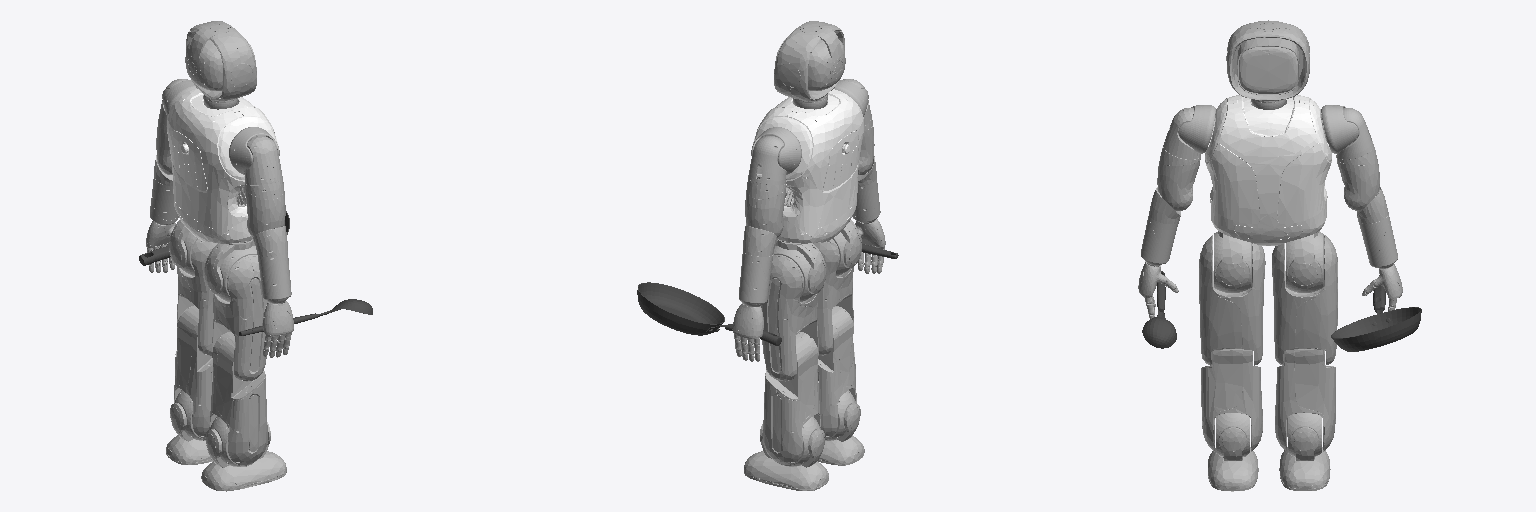
--- Facts derived from the render (not from the file) ---
Views: 3 orthographic renders of the robot side by side, from view 1: azimuth 30°, elevation 25°; view 2: azimuth 150°, elevation 25°; view 3: azimuth 270°, elevation 25°.
Robot: walker — 48 links, 47 joints (28 revolute, 18 fixed, 1 floating); root link world; default pose: all joints at 0.
Links seen in each view (by area): view 1: torso, right_leg_l4, head_l3, right_leg_link1, left_leg_l4, right_leg_link2, left_leg_link1, right_limb_l3, left_leg_link2, right_palm_link, right_limb_l2, right_limb_l5 (+8 smaller); view 2: torso, left_leg_l4, head_l3, left_leg_link1, pan_link, right_leg_l4, left_leg_link2, right_leg_link1, left_limb_l3, right_leg_link2, left_limb_l5, left_palm_link (+8 smaller); view 3: torso, head_l3, right_leg_link1, left_leg_link1, right_leg_l4, left_leg_l4, pan_link, left_leg_link2, right_leg_link2, right_limb_l3, left_limb_l3, left_limb_l5 (+14 smaller).
Boxes of the visible links, x1,y1,x2,y2 form: torso: (167, 89, 277, 243); right_leg_l4: (209, 332, 267, 464); head_l3: (185, 21, 256, 102); right_leg_link1: (212, 255, 267, 381); left_leg_l4: (174, 305, 212, 438); right_leg_link2: (201, 422, 286, 491); left_leg_link1: (177, 239, 217, 355); right_limb_l3: (245, 179, 285, 237); left_leg_link2: (166, 403, 212, 464); right_palm_link: (263, 301, 293, 357); right_limb_l2: (245, 136, 282, 184); right_limb_l5: (258, 252, 291, 300); torso: (753, 89, 863, 243); left_leg_l4: (762, 332, 820, 464); head_l3: (774, 21, 845, 102); left_leg_link1: (761, 255, 818, 381); pan_link: (637, 282, 781, 345); right_leg_l4: (818, 306, 856, 438); left_leg_link2: (744, 424, 828, 490); right_leg_link1: (813, 239, 853, 355); left_limb_l3: (745, 178, 785, 236); right_leg_link2: (818, 403, 864, 465); left_limb_l5: (739, 252, 773, 304); left_palm_link: (732, 303, 763, 361); torso: (1205, 95, 1331, 245); head_l3: (1226, 20, 1309, 102); right_leg_link1: (1199, 235, 1265, 365); left_leg_link1: (1272, 235, 1337, 365); right_leg_l4: (1201, 349, 1262, 451); left_leg_l4: (1275, 349, 1335, 451); pan_link: (1331, 286, 1421, 351); left_leg_link2: (1279, 427, 1330, 490); right_leg_link2: (1208, 427, 1258, 491); right_limb_l3: (1157, 147, 1200, 210); left_limb_l3: (1336, 147, 1379, 210); left_limb_l5: (1358, 215, 1397, 267).
Bounding box of the posed robot: 0.546 × 0.8655 × 1.49 m (x, y, z).
Meshes: 38 distinct files referenced, 38 mesh visuals loaded (36 binary STL, 2 OBJ).

robot.urdf — walker:
<robot name="walker">
  <link name="world"/>
  <joint name="reference" type="floating">
    <parent link="world"/>
    <child link="base_link"/>
  </joint>
  <link name="base_link"/>
  <link name="torso">
    <inertial>
      <origin
          xyz="-0.00124874653232382 0.000246598785695634 -0.111598785207968"
          rpy="0 0 0"/>
      <mass
          value="20.773"/>
      <inertia
          ixx="0.0504230367553516"
          ixy="9.48207899309819E-06"
          ixz="0.000402652939677054"
          iyy="0.0425230890142075"
          iyz="3.19033530756639E-05"
          izz="0.0360972564220647"/>
    </inertial>
    <visual>
      <origin
          xyz="0 0 0"
          rpy="0 0 0"/>
      <geometry>
        <mesh
            filename="../meshes/base_link.STL"/>
      </geometry>
      <material
          name="">
        <color
            rgba="1 1 1 1"/>
      </material>
    </visual>
    <collision>
      <origin
          xyz="0 0 0"
          rpy="0 0 0"/>
      <geometry>
        <mesh
            filename="../meshes/base_link.STL"/>
      </geometry>
    </collision>
  </link>
  <joint
      name="torso_joint"
      type="fixed">
    <origin xyz="0 0 0" rpy="0 0 0"/>
    <parent link="base_link"/>
    <child link="torso"/>
  </joint>
  <link
      name="right_limb_l1">
    <inertial>
      <origin
          xyz="-0.00722075380474052 0.000182063550966449 -0.0361420965458128"
          rpy="0 0 0"/>
      <mass
          value="0.373"/>
      <inertia
          ixx="0.000311522358740572"
          ixy="9.35574756778796E-08"
          ixz="9.36994646655716E-06"
          iyy="0.000215286397239846"
          iyz="1.95199653306617E-07"
          izz="0.000396295467948814"/>
    </inertial>
    <visual>
      <origin
          xyz="0 0 0"
          rpy="0 0 0"/>
      <geometry>
        <mesh
            filename="../meshes/right_limb_l1.STL"/>
      </geometry>
      <material
          name="">
        <color
            rgba="0.752941176470588 0.752941176470588 0.752941176470588 1"/>
      </material>
    </visual>
    <collision>
      <origin
          xyz="0 0 0"
          rpy="0 0 0"/>
      <geometry>
        <mesh
            filename="../meshes/right_limb_l1.STL"/>
      </geometry>
    </collision>
  </link>
  <joint
      name="right_limb_j1"
      type="revolute">
    <origin
        xyz="0 -0.24142 0.018386"
        rpy="-1.9576E-06 1.3107 -1.5708"/>
    <parent
        link="torso"/>
    <child
        link="right_limb_l1"/>
    <axis
        xyz="0 0 -1"/>
    <limit
        lower="-3.1416"
        upper="0.7854"
        effort="30"
        velocity="2.0944"/>
  </joint>
  <link
      name="right_limb_l2">
    <inertial>
      <origin
          xyz="-0.00196280070849963 0.0273168501674689 -0.000134287637530872"
          rpy="0 0 0"/>
      <mass
          value="1.059"/>
      <inertia
          ixx="0.000358148474769472"
          ixy="4.04459296835339E-06"
          ixz="-1.32587419890355E-07"
          iyy="0.000288726351260568"
          iyz="-2.60810750383314E-07"
          izz="0.000390106430816898"/>
    </inertial>
    <visual>
      <origin
          xyz="0 0 0"
          rpy="0 0 0"/>
      <geometry>
        <mesh
            filename="../meshes/right_limb_l2.STL"/>
      </geometry>
      <material
          name="">
        <color
            rgba="0.752941176470588 0.752941176470588 0.752941176470588 1"/>
      </material>
    </visual>
    <collision>
      <origin
          xyz="0 0 0"
          rpy="0 0 0"/>
      <geometry>
        <mesh
            filename="../meshes/right_limb_l2.STL"/>
      </geometry>
    </collision>
  </link>
  <joint
      name="right_limb_j2"
      type="revolute">
    <origin
        xyz="0 0 0"
        rpy="2.5133 1.5708 0.94251"/>
    <parent
        link="right_limb_l1"/>
    <child
        link="right_limb_l2"/>
    <axis
        xyz="0 0 -1"/>
    <limit
        lower="-1.5708"
        upper="0.0175"
        effort="25"
        velocity="3.1416"/>
  </joint>
  <link
      name="right_limb_l3">
    <inertial>
      <origin
          xyz="0.00629656239509119 -0.000210202146791738 -0.0621806056819393"
          rpy="0 0 0"/>
      <mass
          value="1.311"/>
      <inertia
          ixx="0.000578598259089344"
          ixy="1.06936365158182E-06"
          ixz="-2.64856345206635E-05"
          iyy="0.00055597686018737"
          iyz="-3.95057844818449E-07"
          izz="0.000447021332772511"/>
    </inertial>
    <visual>
      <origin
          xyz="0 0 0"
          rpy="0 0 0"/>
      <geometry>
        <mesh
            filename="../meshes/right_limb_l3.STL"/>
      </geometry>
      <material
          name="">
        <color
            rgba="0.752941176470588 0.752941176470588 0.752941176470588 1"/>
      </material>
    </visual>
    <collision>
      <origin
          xyz="0 0 0"
          rpy="0 0 0"/>
      <geometry>
        <mesh
            filename="../meshes/right_limb_l3.STL"/>
      </geometry>
    </collision>
  </link>
  <joint
      name="right_limb_j3"
      type="revolute">
    <origin
        xyz="-0.00064368 0.22946 0"
        rpy="-1.5708 -5.382E-07 1.8518E-13"/>
    <parent
        link="right_limb_l2"/>
    <child
        link="right_limb_l3"/>
    <axis
        xyz="0 0 1"/>
    <limit
        lower="-1.9199"
        upper="1.9199"
        effort="15"
        velocity="3.1416"/>
  </joint>
  <link
      name="right_limb_l4">
    <inertial>
      <origin
          xyz="0.0187332468499471 0.0270289413426349 -0.000700111734367959"
          rpy="0 0 0"/>
      <mass
          value="1.025"/>
      <inertia
          ixx="0.000288414802228566"
          ixy="-3.8255971416539E-05"
          ixz="-1.37491897701913E-06"
          iyy="0.000238322279447384"
          iyz="-1.45890833294397E-06"
          izz="0.00032269764599304"/>
    </inertial>
    <visual>
      <origin
          xyz="0 0 0"
          rpy="0 0 0"/>
      <geometry>
        <mesh
            filename="../meshes/right_limb_l4.STL"/>
      </geometry>
      <material
          name="">
        <color
            rgba="0.752941176470588 0.752941176470588 0.752941176470588 1"/>
      </material>
    </visual>
    <collision>
      <origin
          xyz="0 0 0"
          rpy="0 0 0"/>
      <geometry>
        <mesh
            filename="../meshes/right_limb_l4.STL"/>
      </geometry>
    </collision>
  </link>
  <joint
      name="right_limb_j4"
      type="revolute">
    <origin
        xyz="0.02546 0 0"
        rpy="1.5708 -0.050009 -3.1416"/>
    <parent
        link="right_limb_l3"/>
    <child
        link="right_limb_l4"/>
    <axis
        xyz="0 0 -1"/>
    <limit
        lower="-2.234"
        upper="0"
        effort="15"
        velocity="3.1416"/>
  </joint>
  <link name="right_elbow"/>
  <joint name="right_elbow_joint" type="fixed">
    <origin
        xyz="0 0 0"
        rpy="0 -1.5708 -3.1416"/>
    <parent
        link="right_limb_l4"/>
    <child
        link="right_elbow"/>
    <axis
        xyz="0 0 1"/>
  </joint>
  <link
      name="right_limb_l5">
    <inertial>
      <origin
          xyz="-0.000596823513585643 0.000121710879949472 -0.0604708516266729"
          rpy="0 0 0"/>
      <mass
          value="0.523"/>
      <inertia
          ixx="0.000317212358011218"
          ixy="8.88268591235818E-08"
          ixz="-1.43322638083362E-06"
          iyy="0.000310459779022516"
          iyz="-1.31927102955734E-06"
          izz="0.00020181632910904"/>
    </inertial>
    <visual>
      <origin
          xyz="0 0 0"
          rpy="0 0 0"/>
      <geometry>
        <mesh
            filename="../meshes/right_limb_l5.STL"/>
      </geometry>
      <material
          name="">
        <color
            rgba="0.752941176470588 0.752941176470588 0.752941176470588 1"/>
      </material>
    </visual>
    <collision>
      <origin
          xyz="0 0 0"
          rpy="0 0 0"/>
      <geometry>
        <mesh
            filename="../meshes/right_limb_l5.STL"/>
      </geometry>
    </collision>
  </link>
  <joint
      name="right_limb_j5"
      type="revolute">
    <origin
        xyz="0.024799 0.20964 0"
        rpy="-0.26632 -1.5708 -1.3045"/>
    <parent
        link="right_limb_l4"/>
    <child
        link="right_limb_l5"/>
    <axis
        xyz="0 0 1"/>
    <limit
        lower="-2.3562"
        upper="2.3562"
        effort="2.5"
        velocity="4.8869"/>
  </joint>
  <link
      name="right_limb_l6">
    <inertial>
      <origin
          xyz="0.0128445139242113 0.000377301016695641 -0.000161615308550689"
          rpy="0 0 0"/>
      <mass
          value="0.167"/>
      <inertia
          ixx="2.98997054662723E-05"
          ixy="-1.80995710652571E-07"
          ixz="1.11151156519791E-08"
          iyy="1.83543369800577E-05"
          iyz="4.01989443243718E-09"
          izz="1.79177399902685E-05"/>
    </inertial>
    <visual>
      <origin
          xyz="0 0 0"
          rpy="0 0 0"/>
      <geometry>
        <mesh
            filename="../meshes/right_limb_l6.STL"/>
      </geometry>
      <material
          name="">
        <color
            rgba="0.752941176470588 0.752941176470588 0.752941176470588 1"/>
      </material>
    </visual>
    <collision>
      <origin
          xyz="0 0 0"
          rpy="0 0 0"/>
      <geometry>
        <mesh
            filename="../meshes/right_limb_l6.STL"/>
      </geometry>
    </collision>
  </link>
  <joint
      name="right_limb_j6"
      type="revolute">
    <origin
        xyz="0 0 0"
        rpy="-1.5708 -1.5708 3.1416"/>
    <parent
        link="right_limb_l5"/>
    <child
        link="right_limb_l6"/>
    <axis
        xyz="0 0 1"/>
    <limit
        lower="-0.3508"
        upper="0.3508"
        effort="2.5"
        velocity="3.1416"/>
  </joint>
  <link
      name="right_limb_l7">
    <inertial>
      <origin
          xyz="0.0128445139242113 -0.000161615367552381 -0.000377300991422524"
          rpy="0 0 0"/>
      <mass
          value="0.056"/>
      <inertia
          ixx="2.98997054662723E-05"
          ixy="1.11151439557976E-08"
          ixz="1.80995708914405E-07"
          iyy="1.79177399890113E-05"
          iyz="-4.01982615810442E-09"
          izz="1.83543369813149E-05"/>
    </inertial>
    <visual>
      <origin
          xyz="0 0 0"
          rpy="0 0 0"/>
      <geometry>
        <mesh
            filename="../meshes/right_limb_l7.STL"/>
      </geometry>
      <material
          name="">
        <color
            rgba="0.752941176470588 0.752941176470588 0.752941176470588 1"/>
      </material>
    </visual>
    <collision>
      <origin
          xyz="0 0 0"
          rpy="0 0 0"/>
      <geometry>
        <mesh
            filename="../meshes/right_limb_l7.STL"/>
      </geometry>
    </collision>
  </link>
  <joint
      name="right_limb_j7"
      type="revolute">
    <origin
        xyz="0 0 0"
        rpy="1.5708 -5.9686E-17 -1.3235E-23"/>
    <parent
        link="right_limb_l6"/>
    <child
        link="right_limb_l7"/>
    <axis
        xyz="0 0 1"/>
  </joint>
  <link
      name="right_palm_link">
    <inertial>
      <origin
          xyz="-0.0144809215118954 -0.0132347085538364 0.022306335464008"
          rpy="0 0 0"/>
      <mass
          value="0.0852752510078387"/>
      <inertia
          ixx="0.000154775131402232"
          ixy="1.85109602266807E-05"
          ixz="7.47252049170957E-06"
          iyy="0.000107981762301999"
          iyz="-1.08345230717271E-06"
          izz="0.000125562926987643"/>
    </inertial>
    <visual>
      <origin
          xyz="0 0 0"
          rpy="0 0 0"/>
      <geometry>
        <mesh
            filename="../meshes/right_hand.STL"/>
      </geometry>
      <material
          name="">
        <color
            rgba="0.752941176470588 0.752941176470588 0.752941176470588 1"/>
      </material>
    </visual>
    <collision>
      <origin
          xyz="0 0 0"
          rpy="0 0 0"/>
      <geometry>
        <mesh
            filename="../meshes/right_hand.STL"/>
      </geometry>
    </collision>
  </link>
  <joint
      name="right_palm_joint"
      type="fixed">
    <origin
        xyz="0.074796 0.011942 -0.02228"
        rpy="-1.0945E-07 -1.947E-07 1.7826"/>
    <parent
        link="right_limb_l7"/>
    <child
        link="right_palm_link"/>
    <axis
        xyz="0 0 0"/>
  </joint>

  <joint name="right_spoon_joint" type="fixed">
    <origin rpy="-1.57 -1.57 -1.87" xyz="0.02 -0.05 0.04"/>
    <parent link="right_palm_link"/>
    <child link="spoon_link"/>
    <axis xyz="0 0 1"/>
    <dynamics damping="0.0" friction="0.0"/>
    <limit effort="100" lower="0.0" upper="1.571" velocity="100"/>
  </joint>
  <link name="spoon_link">
    <inertial>
      <mass value="0.01"/>
      <origin rpy="0 0 0" xyz="1.3071561e-02 2.7346340e-03 6.4090487e-04"/>
      <inertia ixx="3.5827953e-07" ixy="-2.0934657e-07" ixz="-6.8435459e-08" iyy="1.3882698e-06" iyz="-3.2001578e-08" izz="1.3570267e-06"/>
    </inertial>
    <visual>
      <origin rpy="0 0 0" xyz="0 0 0"/>
      <geometry>
        <mesh filename="../../objects/pan_spoon/spoon.obj" scale="1 1 1"/>
      </geometry>
      <material name="qbhand/spoon">
        <color rgba="0.35 0.35 0.35 1.0"/>
      </material>
    </visual>
    <collision>
      <origin rpy="0 0 0" xyz="0 0 0"/>
      <geometry>
        <mesh filename="../../objects/pan_spoon/spoon.obj" scale="1 1 1"/>
      </geometry>
    </collision>
  </link>


  <link name="right_tcp">
  </link>
  <joint name="right_tcp_joint" type="fixed">
    <origin
        xyz="0.02 -0.05 0.015"
        rpy="0.12217304763960307 -1.5707963267948966 0.0"/>
    <parent link="right_palm_link"/>
    <child link="right_tcp"/>
    <axis xyz="0 0 0"/>
  </joint>
  <link name="right_palm_tcp"/>
  <joint name="right_palm_tcp_joint" type="fixed">
    <origin
        xyz="0.08 -0.03 0.015"
        rpy="0.12217304763960307 -1.5707963267948966 -0.8"/>
    <parent link="right_palm_link"/>
    <child link="right_palm_tcp"/>
    <axis xyz="0 0 0"/>
  </joint>
  <link
      name="left_limb_l1">
    <inertial>
      <origin
          xyz="-0.00723118478663559 -0.00017669295908318 -0.0361510146492087"
          rpy="0 0 0"/>
      <mass
          value="0.373"/>
      <inertia
          ixx="0.000311546571609671"
          ixy="1.46233470422137E-07"
          ixz="9.38915560600786E-06"
          iyy="0.000215270106429758"
          iyz="-1.74887531239602E-07"
          izz="0.000396323890766572"/>
    </inertial>
    <visual>
      <origin
          xyz="0 0 0"
          rpy="0 0 0"/>
      <geometry>
        <mesh
            filename="../meshes/left_limb_l1.STL"/>
      </geometry>
      <material
          name="">
        <color
            rgba="0.752941176470588 0.752941176470588 0.752941176470588 1"/>
      </material>
    </visual>
    <collision>
      <origin
          xyz="0 0 0"
          rpy="0 0 0"/>
      <geometry>
        <mesh
            filename="../meshes/left_limb_l1.STL"/>
      </geometry>
    </collision>
  </link>
  <joint
      name="left_limb_j1"
      type="revolute">
    <origin
        xyz="0 0.24142 0.018386"
        rpy="-1.931E-07 1.3073 1.5708"/>
    <parent
        link="torso"/>
    <child
        link="left_limb_l1"/>
    <axis
        xyz="0 0 -1"/>
    <limit
        lower="-0.7854"
        upper="3.1416"
        effort="30"
        velocity="2.0944"/>
  </joint>
  <link
      name="left_limb_l2">
    <inertial>
      <origin
          xyz="-0.000955809738594438 -0.0269333403261617 -0.000117719319276233"
          rpy="0 0 0"/>
      <mass
          value="1.059"/>
      <inertia
          ixx="0.000356827361185567"
          ixy="-1.12533439596274E-06"
          ixz="-2.65449628458879E-07"
          iyy="0.000282975717348096"
          iyz="3.29216684248277E-07"
          izz="0.000383024214388443"/>
    </inertial>
    <visual>
      <origin
          xyz="0 0 0"
          rpy="0 0 0"/>
      <geometry>
        <mesh
            filename="../meshes/left_limb_l2.STL"/>
      </geometry>
      <material
          name="">
        <color
            rgba="0.752941176470588 0.752941176470588 0.752941176470588 1"/>
      </material>
    </visual>
    <collision>
      <origin
          xyz="0 0 0"
          rpy="0 0 0"/>
      <geometry>
        <mesh
            filename="../meshes/left_limb_l2.STL"/>
      </geometry>
    </collision>
  </link>
  <joint
      name="left_limb_j2"
      type="revolute">
    <origin
        xyz="0 0 0"
        rpy="-1.5708 1.5708 0"/>
    <parent
        link="left_limb_l1"/>
    <child
        link="left_limb_l2"/>
    <axis
        xyz="0 0 1"/>
    <limit
        lower="-1.5708"
        upper="0.0175"
        effort="25"
        velocity="3.1416"/>
  </joint>
  <link
      name="left_limb_l3">
    <inertial>
      <origin
          xyz="0.00627269966291388 0.000194319566014622 -0.0621535107459377"
          rpy="0 0 0"/>
      <mass
          value="1.311"/>
      <inertia
          ixx="0.000578159440804691"
          ixy="-1.08669345396034E-06"
          ixz="-2.63187856402938E-05"
          iyy="0.000555746273124769"
          iyz="2.4274818506786E-07"
          izz="0.00044678193897698"/>
    </inertial>
    <visual>
      <origin
          xyz="0 0 0"
          rpy="0 0 0"/>
      <geometry>
        <mesh
            filename="../meshes/left_limb_l3.STL"/>
      </geometry>
      <material
          name="">
        <color
            rgba="0.752941176470588 0.752941176470588 0.752941176470588 1"/>
      </material>
    </visual>
    <collision>
      <origin
          xyz="0 0 0"
          rpy="0 0 0"/>
      <geometry>
        <mesh
            filename="../meshes/left_limb_l3.STL"/>
      </geometry>
    </collision>
  </link>
  <joint
      name="left_limb_j3"
      type="revolute">
    <origin
        xyz="-0.00064368 -0.2285 0"
        rpy="1.5708 6.1653E-11 -2.7756E-17"/>
    <parent
        link="left_limb_l2"/>
    <child
        link="left_limb_l3"/>
    <axis
        xyz="0 0 1"/>
    <limit
        lower="-1.9199"
        upper="1.9199"
        effort="15"
        velocity="3.1416"/>
  </joint>
  <link
      name="left_limb_l4">
    <inertial>
      <origin
          xyz="0.0187474263134242 -0.0269365900000591 -0.000697445026925148"
          rpy="0 0 0"/>
      <mass
          value="1.025"/>
      <inertia
          ixx="0.00028845420774769"
          ixy="3.8269969495632E-05"
          ixz="-1.3877529241391E-06"
          iyy="0.000238329463729006"
          iyz="1.48262510934952E-06"
          izz="0.000322652845197085"/>
    </inertial>
    <visual>
      <origin
          xyz="0 0 0"
          rpy="0 0 0"/>
      <geometry>
        <mesh
            filename="../meshes/left_limb_l4.STL"/>
      </geometry>
      <material
          name="">
        <color
            rgba="0.752941176470588 0.752941176470588 0.752941176470588 1"/>
      </material>
    </visual>
    <collision>
      <origin
          xyz="0 0 0"
          rpy="0 0 0"/>
      <geometry>
        <mesh
            filename="../meshes/left_limb_l4.STL"/>
      </geometry>
    </collision>
  </link>
  <joint
      name="left_limb_j4"
      type="revolute">
    <origin
        xyz="0.025422 0 0"
        rpy="-1.5708 -0.046339 3.1416"/>
    <parent
        link="left_limb_l3"/>
    <child
        link="left_limb_l4"/>
    <axis
        xyz="0 0 1"/>
    <limit
        lower="-2.234"
        upper="0"
        effort="15"
        velocity="3.1416"/>
  </joint>
  <link name="left_elbow"/>
  <joint name="left_elbow_joint" type="fixed">
    <origin
        xyz="0 0 0"
        rpy="0 -1.5708 -3.1416"/>
    <parent
        link="left_limb_l4"/>
    <child
        link="left_elbow"/>
    <axis
        xyz="0 0 1"/>
  </joint>
  <link
      name="left_limb_l5">
    <inertial>
      <origin
          xyz="0.000547047098985953 -0.000122519646229002 -0.0604686375411661"
          rpy="0 0 0"/>
      <mass
          value="0.523"/>
      <inertia
          ixx="0.000317253893378651"
          ixy="9.52809865357166E-09"
          ixz="1.23465056753509E-06"
          iyy="0.000310424822694839"
          iyz="1.30897117817618E-06"
          izz="0.000201818691915647"/>
    </inertial>
    <visual>
      <origin
          xyz="0 0 0"
          rpy="0 0 0"/>
      <geometry>
        <mesh
            filename="../meshes/left_limb_l5.STL"/>
      </geometry>
      <material
          name="">
        <color
            rgba="0.752941176470588 0.752941176470588 0.752941176470588 1"/>
      </material>
    </visual>
    <collision>
      <origin
          xyz="0 0 0"
          rpy="0 0 0"/>
      <geometry>
        <mesh
            filename="../meshes/left_limb_l5.STL"/>
      </geometry>
    </collision>
  </link>
  <joint
      name="left_limb_j5"
      type="revolute">
    <origin
        xyz="0.024818 -0.22241 0"
        rpy="-1.5708 -1.5708 -3.1416"/>
    <parent
        link="left_limb_l4"/>
    <child
        link="left_limb_l5"/>
    <axis
        xyz="0 0 1"/>
    <limit
        lower="-2.3562"
        upper="2.3562"
        effort="2.5"
        velocity="4.8869"/>
  </joint>
  <link
      name="left_limb_l6">
    <inertial>
      <origin
          xyz="0.0125425664529848 0.000622049029732841 0.00052226894134122"
          rpy="0 0 0"/>
      <mass
          value="0.167"/>
      <inertia
          ixx="2.99031109754486E-05"
          ixy="1.80107466242642E-07"
          ixz="1.2083547861946E-08"
          iyy="1.83549287965366E-05"
          iyz="-3.56041365932579E-09"
          izz="1.7918623567772E-05"/>
    </inertial>
    <visual>
      <origin
          xyz="0 0 0"
          rpy="0 0 0"/>
      <geometry>
        <mesh
            filename="../meshes/left_limb_l6.STL"/>
      </geometry>
      <material
          name="">
        <color
            rgba="0.752941176470588 0.752941176470588 0.752941176470588 1"/>
      </material>
    </visual>
    <collision>
      <origin
          xyz="0 0 0"
          rpy="0 0 0"/>
      <geometry>
        <mesh
            filename="../meshes/left_limb_l6.STL"/>
      </geometry>
    </collision>
  </link>
  <joint
      name="left_limb_j6"
      type="revolute">
    <origin
        xyz="0 0 0"
        rpy="1.5708 -1.5708 0"/>
    <parent
        link="left_limb_l5"/>
    <child
        link="left_limb_l6"/>
    <axis
        xyz="0 0 -1"/>
    <limit
        lower="-0.3508"
        upper="0.3508"
        effort="2.5"
        velocity="3.1416"/>
  </joint>
  <link
      name="left_limb_l7">
    <inertial>
      <origin
          xyz="0.0125425664529848 0.00052226894134122 -0.000622049029732841"
          rpy="0 0 0"/>
      <mass
          value="0.056"/>
      <inertia
          ixx="2.99031109754486E-05"
          ixy="1.2083547861945E-08"
          ixz="-1.80107466242643E-07"
          iyy="1.7918623567772E-05"
          iyz="3.56041365932608E-09"
          izz="1.83549287965366E-05"/>
    </inertial>
    <visual>
      <origin
          xyz="0 0 0"
          rpy="0 0 0"/>
      <geometry>
        <mesh
            filename="../meshes/left_limb_l7.STL"/>
      </geometry>
      <material
          name="">
        <color
            rgba="0.752941176470588 0.752941176470588 0.752941176470588 1"/>
      </material>
    </visual>
    <collision>
      <origin
          xyz="0 0 0"
          rpy="0 0 0"/>
      <geometry>
        <mesh
            filename="../meshes/left_limb_l7.STL"/>
      </geometry>
    </collision>
  </link>
  <joint
      name="left_limb_j7"
      type="revolute">
    <origin
        xyz="0 0 0"
        rpy="1.5708 3.0389E-17 6.4236E-24"/>
    <parent
        link="left_limb_l6"/>
    <child
        link="left_limb_l7"/>
    <axis
        xyz="0 0 -1"/>
  </joint>
  <link
      name="left_palm_link">
    <inertial>
      <origin
          xyz="0.015922919736204 -0.0138313214453597 0.0219045185061652"
          rpy="0 0 0"/>
      <mass
          value="0.0819372257156439"/>
      <inertia
          ixx="0.000153363835173176"
          ixy="1.67361413147736E-05"
          ixz="6.26037102347951E-06"
          iyy="0.000103099876290357"
          iyz="-5.28417728738961E-07"
          izz="0.000120087679020098"/>
    </inertial>
    <visual>
      <origin
          xyz="0 0 0"
          rpy="0 0 0"/>
      <geometry>
        <mesh
            filename="../meshes/left_hand.STL"/>
      </geometry>
      <material
          name="">
        <color
            rgba="0.752941176470588 0.752941176470588 0.752941176470588 1"/>
      </material>
    </visual>
    <collision>
      <origin
          xyz="0 0 0"
          rpy="0 0 0"/>
      <geometry>
        <mesh
            filename="../meshes/left_hand.STL"/>
      </geometry>
    </collision>
  </link>
  <joint
      name="left_palm_joint"
      type="fixed">
    <origin
        xyz="0.073849 -0.0065547 -0.01588"
        rpy="-3.1478E-08 1.4374E-07 1.3553"/>
    <parent
        link="left_limb_l7"/>
    <child
        link="left_palm_link"/>
    <axis
        xyz="0 0 0"/>
  </joint>

  <joint name="left_pan_joint" type="fixed">
    <origin rpy="-1.27 -1.57 1.57" xyz="-0.02 -0.06 0.017"/>
    <parent link="left_palm_link"/>
    <child link="pan_link"/>
    <axis xyz="0 0 1"/>
    <dynamics damping="0.0" friction="0.0"/>
    <limit effort="100" lower="0.0" upper="1.571" velocity="100"/>
  </joint>
  <link name="pan_link">
    <inertial>
      <mass value="0.01"/>
      <origin rpy="0 0 0" xyz="1.3071561e-02 2.7346340e-03 6.4090487e-04"/>
      <inertia ixx="3.5827953e-07" ixy="-2.0934657e-07" ixz="-6.8435459e-08" iyy="1.3882698e-06" iyz="-3.2001578e-08" izz="1.3570267e-06"/>
    </inertial>
    <visual>
      <origin rpy="0 0 0" xyz="0 0 0"/>
      <geometry>
        <mesh filename="../../objects/pan_spoon/pan.obj" scale="1 1 1"/>
      </geometry>
      <material name="qbhand/pan">
        <color rgba="0.35 0.35 0.35 1.0"/>
      </material>
    </visual>
    <collision>
      <origin rpy="0 0 0" xyz="0 0 0"/>
      <geometry>
        <mesh filename="../../objects/pan_spoon/pan.obj" scale="1 1 1"/>
      </geometry>
    </collision>
  </link>



  <link name="left_tcp">
  </link>
  <joint name="left_tcp_joint" type="fixed">
    <origin
        xyz="-0.02 -0.05 0.015"
        rpy="3.01941960595019 -1.5707963267948966 0.0"/>
    <parent link="left_palm_link"/>
    <child link="left_tcp"/>
    <axis xyz="0 0 0"/>
  </joint>
  <link name="left_palm_tcp"/>
  <joint name="left_palm_tcp_joint" type="fixed">
    <origin
        xyz="-0.08 -0.03 0.015"
        rpy="3.01941960595019 -1.5707963267948966 0.4"/>
    <parent link="left_palm_link"/>
    <child link="left_palm_tcp"/>
    <axis xyz="0 0 0"/>
  </joint>
  <link
      name="head_l1">
    <inertial>
      <origin
          xyz="-0.00101176466106917 2.14927259107045E-05 2.40864327796242E-05"
          rpy="0 0 0"/>
      <mass
          value="0.11"/>
      <inertia
          ixx="4.47378645859373E-05"
          ixy="2.81915971144153E-10"
          ixz="-2.73721904719924E-10"
          iyy="4.50204226321243E-05"
          iyz="9.47033251933937E-08"
          izz="8.09468687396382E-05"/>
    </inertial>
    <visual>
      <origin
          xyz="0 0 0"
          rpy="0 0 0"/>
      <geometry>
        <mesh
            filename="../meshes/head_l1.STL"/>
      </geometry>
      <material
          name="">
        <color
            rgba="0.752941176470588 0.752941176470588 0.752941176470588 1"/>
      </material>
    </visual>
    <collision>
      <origin
          xyz="0 0 0"
          rpy="0 0 0"/>
      <geometry>
        <mesh
            filename="../meshes/head_l1.STL"/>
      </geometry>
    </collision>
  </link>
  <joint
      name="head_j1"
      type="revolute">
    <origin
        xyz="0 -0.00016327 0.098503"
        rpy="0.0016575 -7.7846E-07 -1.2903E-09"/>
    <parent
        link="torso"/>
    <child
        link="head_l1"/>
    <axis
        xyz="0 0 1"/>
    <limit
        lower="-1.5708"
        upper="1.5708"
        effort="10.0"
        velocity="1.8"/>
    <dynamics damping="5" friction="0.0"/>
  </joint>
  <link
      name="head_l2">
    <inertial>
      <origin
          xyz="-0.00101176466106923 2.40864327795132E-05 -2.14927259107323E-05"
          rpy="0 0 0"/>
      <mass
          value="2.003"/>
      <inertia
          ixx="4.47378645859373E-05"
          ixy="-2.73721904719871E-10"
          ixz="-2.81915971158962E-10"
          iyy="8.09468687396382E-05"
          iyz="-9.47033251933937E-08"
          izz="4.50204226321243E-05"/>
    </inertial>
    <visual>
      <origin
          xyz="0 0 0"
          rpy="0 0 0"/>
      <geometry>
        <mesh
            filename="../meshes/head_l2.STL"/>
      </geometry>
      <material
          name="">
        <color
            rgba="0.752941176470588 0.752941176470588 0.752941176470588 1"/>
      </material>
    </visual>
    <collision>
      <origin
          xyz="0 0 0"
          rpy="0 0 0"/>
      <geometry>
        <mesh
            filename="../meshes/head_l2.STL"/>
      </geometry>
    </collision>
  </link>
  <joint
      name="head_j2"
      type="revolute">
    <origin
        xyz="0 0 0"
        rpy="1.5708 0 0"/>
    <parent
        link="head_l1"/>
    <child
        link="head_l2"/>
    <axis
        xyz="0 0 -1"/>
    <limit
        lower="-0.2"
        upper="0.2"
        effort="10.0"
        velocity="1.8"/>
    <dynamics damping="5" friction="0.0"/>
  </joint>
  <link
      name="head_l3">
    <inertial>
      <origin
          xyz="3.54592869765136E-05 0.0428621473767309 -0.0791185735185245"
          rpy="0 0 0"/>
      <mass
          value="1.20773190668416"/>
      <inertia
          ixx="0.00745100600669459"
          ixy="-8.626335157939E-07"
          ixz="4.68776412376162E-06"
          iyy="0.00893488331919254"
          iyz="0.00039432451273699"
          izz="0.0106759110882988"/>
    </inertial>
    <visual>
      <origin
          xyz="0 0 0"
          rpy="0 0 0"/>
      <geometry>
        <mesh
            filename="../meshes/head_l3.STL"/>
      </geometry>
      <material
          name="">
        <color
            rgba="0.752941176470588 0.752941176470588 0.752941176470588 1"/>
      </material>
    </visual>
    <collision>
      <origin
          xyz="0 0 0"
          rpy="0 0 0"/>
      <geometry>
        <mesh
            filename="../meshes/head_l3.STL"/>
      </geometry>
    </collision>
  </link>
  <joint
      name="head_j3"
      type="fixed">
    <origin
        xyz="0.084415 0.093313 0.00013289"
        rpy="7.2818E-07 1.5708 0"/>
    <parent
        link="head_l2"/>
    <child
        link="head_l3"/>
    <axis
        xyz="0 0 0"/>
  </joint>
  <link
      name="right_leg_l1">
    <inertial>
      <origin
          xyz="5.11129158979606E-06 -0.00936418225303892 -0.0512174036838659"
          rpy="0 0 0"/>
      <mass
          value="0.988"/>
      <inertia
          ixx="0.00254235658315077"
          ixy="1.57337755179475E-07"
          ixz="-6.66232939731805E-08"
          iyy="0.00094385758061583"
          iyz="4.82425859167379E-05"
          izz="0.0019715721917557"/>
    </inertial>
    <visual>
      <origin
          xyz="0 0 0"
          rpy="0 0 0"/>
      <geometry>
        <mesh
            filename="../meshes/right_leg_l1.STL"/>
      </geometry>
      <material
          name="">
        <color
            rgba="0.752941176470588 0.752941176470588 0.752941176470588 1"/>
      </material>
    </visual>
    <collision>
      <origin
          xyz="0 0 0"
          rpy="0 0 0"/>
      <geometry>
        <mesh
            filename="../meshes/right_leg_l1.STL"/>
      </geometry>
    </collision>
  </link>
  <joint
      name="right_leg_j1"
      type="revolute">
    <origin
        xyz="0 -0.110 -0.43709"
        rpy="-3.1416 0.0016575 -1.5708"/>
    <parent
        link="torso"/>
    <child
        link="right_leg_l1"/>
    <axis
        xyz="0 0 -1"/>
    <limit
        lower="-1.0472"
        upper="1.0472"
        effort="30.0"
        velocity="2.0944"/>
    <dynamics damping="15" friction="0.0"/>
  </joint>
  <link
      name="right_leg_l2">
    <inertial>
      <origin
          xyz="-6.5633908391538E-06 -5.57679072622636E-05 -0.00164948244371405"
          rpy="0 0 0"/>
      <mass
          value="3.392"/>
      <inertia
          ixx="0.0012488527525295"
          ixy="-1.5318639928393E-07"
          ixz="1.42446025939976E-08"
          iyy="0.00186097534915346"
          iyz="1.09072987197785E-06"
          izz="0.00155483228726037"/>
    </inertial>
    <visual>
      <origin
          xyz="0 0 0"
          rpy="0 0 0"/>
      <geometry>
        <mesh
            filename="../meshes/right_leg_l2.STL"/>
      </geometry>
      <material
          name="">
        <color
            rgba="0.752941176470588 0.752941176470588 0.752941176470588 1"/>
      </material>
    </visual>
    <collision>
      <origin
          xyz="0 0 0"
          rpy="0 0 0"/>
      <geometry>
        <mesh
            filename="../meshes/right_leg_l2.STL"/>
      </geometry>
    </collision>
  </link>
  <joint
      name="right_leg_j2"
      type="revolute">
    <origin
        xyz="0 0 0"
        rpy="1.5708 -1.5708 0"/>
    <parent
        link="right_leg_l1"/>
    <child
        link="right_leg_l2"/>
    <axis
        xyz="0 0 1"/>
    <limit
        lower="-0.5236"
        upper="0.5236"
        effort="25.0"
        velocity="3.1416"/>
    <dynamics damping="8.0" friction="0.0"/>
  </joint>
  <link
      name="right_leg_l3">
    <inertial>
      <origin
          xyz="-6.5633908391538E-06 -0.00164948244371405 5.57679072622636E-05"
          rpy="0 0 0"/>
      <mass
          value="4.637"/>
      <inertia
          ixx="0.0012488527525295"
          ixy="1.42446025940514E-08"
          ixz="1.5318639928393E-07"
          iyy="0.00155483228726037"
          iyz="-1.09072987197784E-06"
          izz="0.00186097534915346"/>
    </inertial>
    <visual>
      <origin
          xyz="0 0 0"
          rpy="0 0 0"/>
      <geometry>
        <mesh
            filename="../meshes/right_leg_l3.STL"/>
      </geometry>
      <material
          name="">
        <color
            rgba="0.752941176470588 0.752941176470588 0.752941176470588 1"/>
      </material>
    </visual>
    <collision>
      <origin
          xyz="0 0 0"
          rpy="0 0 0"/>
      <geometry>
        <mesh
            filename="../meshes/right_leg_l3.STL"/>
      </geometry>
    </collision>
  </link>
  <joint
      name="right_leg_j3"
      type="revolute">
    <origin
        xyz="0 0 0"
        rpy="1.5708 0 -3.6455E-33"/>
    <parent
        link="right_leg_l2"/>
    <child
        link="right_leg_l3"/>
    <axis
        xyz="0 0 -1"/>
    <limit
        lower="-1.3963"
        upper="0.5236"
        effort="15.0"
        velocity="3.1416"/>
    <dynamics damping="5.0" friction="0.0"/>
  </joint>
  <link
      name="right_leg_link1">
    <inertial>
      <origin
          xyz="-0.00142087955151146 0.0169322449435227 0.0018595931132096"
          rpy="0 0 0"/>
      <mass
          value="6.606"/>
      <inertia
          ixx="0.00954952360792742"
          ixy="-4.80368528637106E-05"
          ixz="-1.16597038259326E-05"
          iyy="0.00492713857542187"
          iyz="0.000202093537905228"
          izz="0.0117254451783956"/>
    </inertial>
    <visual>
      <origin
          xyz="0 0 0"
          rpy="0 0 0"/>
      <geometry>
        <mesh
            filename="../meshes/right_leg_link1.STL"/>
      </geometry>
      <material
          name="">
        <color
            rgba="0.752941176470588 0.752941176470588 0.752941176470588 1"/>
      </material>
    </visual>
    <collision>
      <origin
          xyz="0 0 0"
          rpy="0 0 0"/>
      <geometry>
        <mesh
            filename="../meshes/right_leg_link1.STL"/>
      </geometry>
    </collision>
  </link>
  <joint
      name="right_leg_joint1"
      type="fixed">
    <origin
        xyz="0.109108017985617 0.0115828770565157 -0.000478265954605414"
        rpy="1.57079632667051 1.5707963267949 0"/>
    <parent
        link="right_leg_l3"/>
    <child
        link="right_leg_link1"/>
    <axis
        xyz="0 0 0"/>
  </joint>
  <link
      name="right_leg_l4">
    <inertial>
      <origin
          xyz="0.144364908610918 0.00102666849127708 -0.0602126138281597"
          rpy="0 0 0"/>
      <mass
          value="2.852"/>
      <inertia
          ixx="0.00349428616791082"
          ixy="6.68850844345398E-05"
          ixz="-2.3461690047968E-05"
          iyy="0.00919226857078176"
          iyz="-6.35361998636887E-06"
          izz="0.00803458705956712"/>
    </inertial>
    <visual>
      <origin
          xyz="0 0 0"
          rpy="0 0 0"/>
      <geometry>
        <mesh
            filename="../meshes/right_leg_l4.STL"/>
      </geometry>
      <material
          name="">
        <color
            rgba="0.752941176470588 0.752941176470588 0.752941176470588 1"/>
      </material>
    </visual>
    <collision>
      <origin
          xyz="0 0 0"
          rpy="0 0 0"/>
      <geometry>
        <mesh
            filename="../meshes/right_leg_l4.STL"/>
      </geometry>
    </collision>
  </link>
  <joint
      name="right_leg_j4"
      type="revolute">
    <origin
        xyz="-0.062478 0.18089 0.011583"
        rpy="-1.5708 -1.2439E-10 1.5708"/>
    <parent
        link="right_leg_link1"/>
    <child
        link="right_leg_l4"/>
    <axis
        xyz="0 0 -1"/>
    <limit
        lower="-0.1745"
        upper="2.1817"
        effort="15.0"
        velocity="3.1416"/>
    <dynamics damping="5.0" friction="0.0"/>
  </joint>
  <link
      name="right_leg_l5">
    <inertial>
      <origin
          xyz="7.96335833541661E-06 0.000381749364422312 0.000653555695878161"
          rpy="0 0 0"/>
      <mass
          value="0.684"/>
      <inertia
          ixx="0.00109931070401539"
          ixy="-2.12453559703151E-07"
          ixz="9.96056672112188E-08"
          iyy="0.00122880276053965"
          iyz="7.33600925422275E-07"
          izz="0.00151564864910183"/>
    </inertial>
    <visual>
      <origin
          xyz="0 0 0"
          rpy="0 0 0"/>
      <geometry>
        <mesh
            filename="../meshes/right_leg_l5.STL"/>
      </geometry>
      <material
          name="">
        <color
            rgba="0.752941176470588 0.752941176470588 0.752941176470588 1"/>
      </material>
    </visual>
    <collision>
      <origin
          xyz="0 0 0"
          rpy="0 0 0"/>
      <geometry>
        <mesh
            filename="../meshes/right_leg_l5.STL"/>
      </geometry>
    </collision>
  </link>
  <joint
      name="right_leg_j5"
      type="revolute">
    <origin
        xyz="0.275 0 -0.0622"
        rpy="-2.4228E-16 -7.0505E-30 -2.4021E-16"/>
    <parent
        link="right_leg_l4"/>
    <child
        link="right_leg_l5"/>
    <axis
        xyz="0 0 -1"/>
    <limit
        lower="-1.3963"
        upper="0.5236"
        effort="10.0"
        velocity="3.1416"/>
    <dynamics damping="5.0" friction="0.5"/>
  </joint>
  <link
      name="right_leg_l6">
    <inertial>
      <origin
          xyz="7.96335833530559E-06 -0.000653555695878175 0.000381749364422368"
          rpy="0 0 0"/>
      <mass
          value="0.879"/>
      <inertia
          ixx="0.00109931070401539"
          ixy="-9.96056672111714E-08"
          ixz="-2.12453559703205E-07"
          iyy="0.00151564864910183"
          iyz="-7.33600925422326E-07"
          izz="0.00122880276053965"/>
    </inertial>
    <visual>
      <origin
          xyz="0 0 0"
          rpy="0 0 0"/>
      <geometry>
        <mesh
            filename="../meshes/right_leg_l6.STL"/>
      </geometry>
      <material
          name="">
        <color
            rgba="0.752941176470588 0.752941176470588 0.752941176470588 1"/>
      </material>
    </visual>
    <collision>
      <origin
          xyz="0 0 0"
          rpy="0 0 0"/>
      <geometry>
        <mesh
            filename="../meshes/right_leg_l6.STL"/>
      </geometry>
    </collision>
  </link>
  <joint
      name="right_leg_j6"
      type="revolute">
    <origin
        xyz="0 0 0"
        rpy="-1.5708 2.1861E-32 0"/>
    <parent
        link="right_leg_l5"/>
    <child
        link="right_leg_l6"/>
    <axis
        xyz="0 0 1"/>
    <limit
        lower="-0.5236"
        upper="0.5236"
        effort="10.0"
        velocity="3.1416"/>
    <dynamics damping="5.0" friction="0.5"/>
  </joint>
  <link
      name="right_leg_link2">
    <inertial>
      <origin
          xyz="5.34466089641278E-05 -0.0271413448383173 0.0158898181923479"
          rpy="0 0 0"/>
      <mass
          value="0.477"/>
      <inertia
          ixx="0.00616159172023952"
          ixy="1.09312906490756E-06"
          ixz="-1.69420307973724E-06"
          iyy="0.00563302608024886"
          iyz="0.000157121150126078"
          izz="0.0028391224604733"/>
    </inertial>
    <visual>
      <origin
          xyz="0 0 0"
          rpy="0 0 0"/>
      <geometry>
        <mesh
            filename="../meshes/right_leg_link2.STL"/>
      </geometry>
      <material
          name="">
        <color
            rgba="0.752941176470588 0.752941176470588 0.752941176470588 1"/>
      </material>
    </visual>
    <collision>
      <origin
          xyz="0 0 0"
          rpy="0 0 0"/>
      <geometry>
        <mesh
            filename="../meshes/right_leg_link2.STL"/>
      </geometry>
    </collision>
  </link>
  <joint
      name="right_leg_joint2"
      type="fixed">
    <origin
        xyz="0.0757484988059719 0 0"
        rpy="-1.24388213768849E-10 -1.32978657476726E-16 1.5707963267949"/>
    <parent
        link="right_leg_l6"/>
    <child
        link="right_leg_link2"/>
    <axis
        xyz="0 0 0"/>
  </joint>
  <link name="right_sole"/>
  <joint
      name="right_sole"
      type="fixed">
    <origin
        xyz="0 -0.064652 0"
        rpy="0 -1.5707 -1.5707"/>
    <parent
        link="right_leg_link2"/>
    <child
        link="right_sole"/>
    <axis
        xyz="0 0 0"/>
  </joint>
  <link
      name="left_leg_l1">
    <inertial>
      <origin
          xyz="-5.11729121482896E-06 0.00936420392659232 -0.0512174071313175"
          rpy="0 0 0"/>
      <mass
          value="0.988"/>
      <inertia
          ixx="0.00254235702064034"
          ixy="1.57444035565841E-07"
          ixz="6.65716426297285E-08"
          iyy="0.000943857844567228"
          iyz="-4.82425522581393E-05"
          izz="0.00197157321730625"/>
    </inertial>
    <visual>
      <origin
          xyz="0 0 0"
          rpy="0 0 0"/>
      <geometry>
        <mesh
            filename="../meshes/left_leg_l1.STL"/>
      </geometry>
      <material
          name="">
        <color
            rgba="0.752941176470588 0.752941176470588 0.752941176470588 1"/>
      </material>
    </visual>
    <collision>
      <origin
          xyz="0 0 0"
          rpy="0 0 0"/>
      <geometry>
        <mesh
            filename="../meshes/left_leg_l1.STL"/>
      </geometry>
    </collision>
  </link>
  <joint
      name="left_leg_j1"
      type="revolute">
    <origin
        xyz="0 0.110 -0.43677"
        rpy="3.1416 -0.0016575 1.5708"/>
    <parent
        link="torso"/>
    <child
        link="left_leg_l1"/>
    <axis
        xyz="0 0 -1"/>
    <limit
        lower="-1.0472"
        upper="1.0472"
        effort="30.0"
        velocity="2.0944"/>
    <dynamics damping="15" friction="0.0"/>
  </joint>
  <link
      name="left_leg_l2">
    <inertial>
      <origin
          xyz="-2.80791043860348E-06 -5.52021585495388E-05 -0.00165084747917321"
          rpy="0 0 0"/>
      <mass
          value="3.392"/>
      <inertia
          ixx="0.00124886157714483"
          ixy="-1.26116836235839E-07"
          ixz="-5.58754914566251E-08"
          iyy="0.00186090476591848"
          iyz="1.08419803614329E-06"
          izz="0.00155478511176639"/>
    </inertial>
    <visual>
      <origin
          xyz="0 0 0"
          rpy="0 0 0"/>
      <geometry>
        <mesh
            filename="../meshes/left_leg_l2.STL"/>
      </geometry>
      <material
          name="">
        <color
            rgba="0.752941176470588 0.752941176470588 0.752941176470588 1"/>
      </material>
    </visual>
    <collision>
      <origin
          xyz="0 0 0"
          rpy="0 0 0"/>
      <geometry>
        <mesh
            filename="../meshes/left_leg_l2.STL"/>
      </geometry>
    </collision>
  </link>
  <joint
      name="left_leg_j2"
      type="revolute">
    <origin
        xyz="0 0 0"
        rpy="1.5708 -1.5708 0"/>
    <parent
        link="left_leg_l1"/>
    <child
        link="left_leg_l2"/>
    <axis
        xyz="0 0 -1"/>
    <limit
        lower="-0.5236"
        upper="0.5236"
        effort="25.0"
        velocity="3.1416"/>
    <dynamics damping="8.0" friction="0.0"/>
  </joint>
  <link
      name="left_leg_l3">
    <inertial>
      <origin
          xyz="-2.80791043856185E-06 0.00165084747917332 -5.52021585495388E-05"
          rpy="0 0 0"/>
      <mass
          value="4.637"/>
      <inertia
          ixx="0.00124886157714483"
          ixy="5.58754914573585E-08"
          ixz="-1.26116836235851E-07"
          iyy="0.00155478511176639"
          iyz="-1.08419803614329E-06"
          izz="0.00186090476591849"/>
    </inertial>
    <visual>
      <origin
          xyz="0 0 0"
          rpy="0 0 0"/>
      <geometry>
        <mesh
            filename="../meshes/left_leg_l3.STL"/>
      </geometry>
      <material
          name="">
        <color
            rgba="0.752941176470588 0.752941176470588 0.752941176470588 1"/>
      </material>
    </visual>
    <collision>
      <origin
          xyz="0 0 0"
          rpy="0 0 0"/>
      <geometry>
        <mesh
            filename="../meshes/left_leg_l3.STL"/>
      </geometry>
    </collision>
  </link>
  <joint
      name="left_leg_j3"
      type="revolute">
    <origin
        xyz="0 0 0"
        rpy="1.5708 0 1.5647E-33"/>
    <parent
        link="left_leg_l2"/>
    <child
        link="left_leg_l3"/>
    <axis
        xyz="0 0 1"/>
    <limit
        lower="-1.3963"
        upper="0.5236"
        effort="15.0"
        velocity="3.1416"/>
    <dynamics damping="5.0" friction="0.0"/>
  </joint>
  <link
      name="left_leg_link1">
    <inertial>
      <origin
          xyz="0.00144392186031067 -0.0169601633210853 -0.00169801629659933"
          rpy="0 0 0"/>
      <mass
          value="6.606"/>
      <inertia
          ixx="0.00956077848823135"
          ixy="-4.83564083228461E-05"
          ixz="-1.12762450536798E-05"
          iyy="0.00493338150806551"
          iyz="0.000203803662618588"
          izz="0.0117303046260317"/>
    </inertial>
    <visual>
      <origin
          xyz="0 0 0"
          rpy="0 0 0"/>
      <geometry>
        <mesh
            filename="../meshes/left_leg_link1.STL"/>
      </geometry>
      <material
          name="">
        <color
            rgba="0.752941176470588 0.752941176470588 0.752941176470588 1"/>
      </material>
    </visual>
    <collision>
      <origin
          xyz="0 0 0"
          rpy="0 0 0"/>
      <geometry>
        <mesh
            filename="../meshes/left_leg_link1.STL"/>
      </geometry>
    </collision>
  </link>
  <joint
      name="left_leg_joint1"
      type="fixed">
    <origin
        xyz="0.10911 -0.011583 -0.00049937"
        rpy="1.5708 -1.5708 0"/>
    <parent
        link="left_leg_l3"/>
    <child
        link="left_leg_link1"/>
    <axis
        xyz="0 0 0"/>
  </joint>
  <link
      name="left_leg_l4">
    <inertial>
      <origin
          xyz="0.144283841094366 -0.00102279547401057 -0.0603084014166758"
          rpy="0 0 0"/>
      <mass
          value="2.852"/>
      <inertia
          ixx="0.00348790903629806"
          ixy="-6.72197320848782E-05"
          ixz="-2.20660425922093E-05"
          iyy="0.00918390431395075"
          iyz="5.28347099368274E-06"
          izz="0.00803159482751147"/>
    </inertial>
    <visual>
      <origin
          xyz="0 0 0"
          rpy="0 0 0"/>
      <geometry>
        <mesh
            filename="../meshes/left_leg_l4.STL"/>
      </geometry>
      <material
          name="">
        <color
            rgba="0.752941176470588 0.752941176470588 0.752941176470588 1"/>
      </material>
    </visual>
    <collision>
      <origin
          xyz="0 0 0"
          rpy="0 0 0"/>
      <geometry>
        <mesh
            filename="../meshes/left_leg_l4.STL"/>
      </geometry>
    </collision>
  </link>
  <joint
      name="left_leg_j4"
      type="revolute">
    <origin
        xyz="0.062499 -0.18089 -0.011583"
        rpy="-1.5708 1.2439E-10 -1.5708"/>
    <parent
        link="left_leg_link1"/>
    <child
        link="left_leg_l4"/>
    <axis
        xyz="0 0 1"/>
    <limit
        lower="-0.1745"
        upper="2.1817"
        effort="15.0"
        velocity="3.1416"/>
    <dynamics damping="5.0" friction="0.0"/>
  </joint>
  <link
      name="left_leg_l5">
    <inertial>
      <origin
          xyz="-8.2197777209192E-06 -0.000384779884713304 -0.000653186499701697"
          rpy="0 0 0"/>
      <mass
          value="0.684"/>
      <inertia
          ixx="0.00109932649823027"
          ixy="-3.62028115995048E-07"
          ixz="8.85639972401551E-08"
          iyy="0.00122863403306236"
          iyz="7.05340902749059E-07"
          izz="0.00151550242399035"/>
    </inertial>
    <visual>
      <origin
          xyz="0 0 0"
          rpy="0 0 0"/>
      <geometry>
        <mesh
            filename="../meshes/left_leg_l5.STL"/>
      </geometry>
      <material
          name="">
        <color
            rgba="0.752941176470588 0.752941176470588 0.752941176470588 1"/>
      </material>
    </visual>
    <collision>
      <origin
          xyz="0 0 0"
          rpy="0 0 0"/>
      <geometry>
        <mesh
            filename="../meshes/left_leg_l5.STL"/>
      </geometry>
    </collision>
  </link>
  <joint
      name="left_leg_j5"
      type="revolute">
    <origin
        xyz="0.275 0 -0.0622"
        rpy="-1.0408E-16 -3.8765E-15 -1.2439E-10"/>
    <parent
        link="left_leg_l4"/>
    <child
        link="left_leg_l5"/>
    <axis
        xyz="0 0 1"/>
    <limit
        lower="-1.3963"
        upper="0.5236"
        effort="10.0"
        velocity="3.1416"/>
    <dynamics damping="5.0" friction="0.5"/>
  </joint>
  <link
      name="left_leg_l6">
    <inertial>
      <origin
          xyz="-8.21977772069715E-06 -0.000653186499701752 0.00038477988471336"
          rpy="0 0 0"/>
      <mass
          value="0.879"/>
      <inertia
          ixx="0.00109932649823027"
          ixy="8.85639972402085E-08"
          ixz="3.62028115994795E-07"
          iyy="0.00151550242399035"
          iyz="-7.05340902749067E-07"
          izz="0.00122863403306236"/>
    </inertial>
    <visual>
      <origin
          xyz="0 0 0"
          rpy="0 0 0"/>
      <geometry>
        <mesh
            filename="../meshes/left_leg_l6.STL"/>
      </geometry>
      <material
          name="">
        <color
            rgba="0.752941176470588 0.752941176470588 0.752941176470588 1"/>
      </material>
    </visual>
    <collision>
      <origin
          xyz="0 0 0"
          rpy="0 0 0"/>
      <geometry>
        <mesh
            filename="../meshes/left_leg_l6.STL"/>
      </geometry>
    </collision>
  </link>
  <joint
      name="left_leg_j6"
      type="revolute">
    <origin
        xyz="0 0 0"
        rpy="1.5708 -1.0785E-32 0"/>
    <parent
        link="left_leg_l5"/>
    <child
        link="left_leg_l6"/>
    <axis
        xyz="0 0 1"/>
    <limit
        lower="-0.5236"
        upper="0.5236"
        effort="10.0"
        velocity="3.1416"/>
    <dynamics damping="5.0" friction="0.5"/>
  </joint>
  <link
      name="left_leg_link2">
    <inertial>
      <origin
          xyz="5.34681040891272E-05 -0.0269451313812346 0.0158898260414049"
          rpy="0 0 0"/>
      <mass
          value="0.477"/>
      <inertia
          ixx="0.00616225237983881"
          ixy="1.08684830545396E-06"
          ixz="-1.69375185248199E-06"
          iyy="0.005633025666212"
          iyz="0.000156811758916287"
          izz="0.00283978255808244"/>
    </inertial>
    <visual>
      <origin
          xyz="0 0 0"
          rpy="0 0 0"/>
      <geometry>
        <mesh
            filename="../meshes/left_leg_link2.STL"/>
      </geometry>
      <material
          name="">
        <color
            rgba="0.752941176470588 0.752941176470588 0.752941176470588 1"/>
      </material>
    </visual>
    <collision>
      <origin
          xyz="0 0 0"
          rpy="0 0 0"/>
      <geometry>
        <mesh
            filename="../meshes/left_leg_link2.STL"/>
      </geometry>
    </collision>
  </link>
  <joint
      name="left_leg_joint2"
      type="fixed">
    <origin
        xyz="0.075748 0 0"
        rpy="-5.5511E-17 -2.918E-16 1.5708"/>
    <parent
        link="left_leg_l6"/>
    <child
        link="left_leg_link2"/>
    <axis
        xyz="0 0 0"/>
  </joint>
  <link name="left_sole"/>
  <joint
      name="left_sole"
      type="fixed">
    <origin
        xyz="0 -0.064652 0"
        rpy="0 -1.5707 -1.5707"/>
    <parent
        link="left_leg_link2"/>
    <child
        link="left_sole"/>
    <axis
        xyz="0 0 0"/>
  </joint>
</robot>
